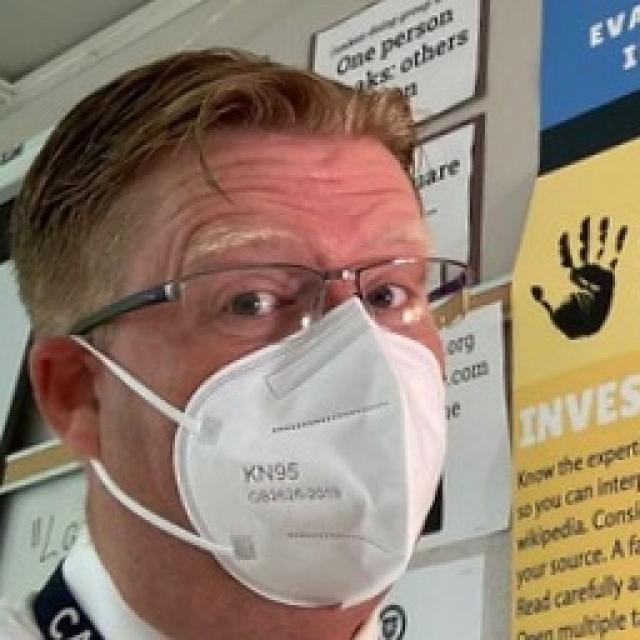glasses: (73, 242, 487, 344)
